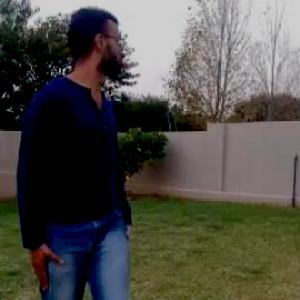follow: (11, 0, 138, 299)
